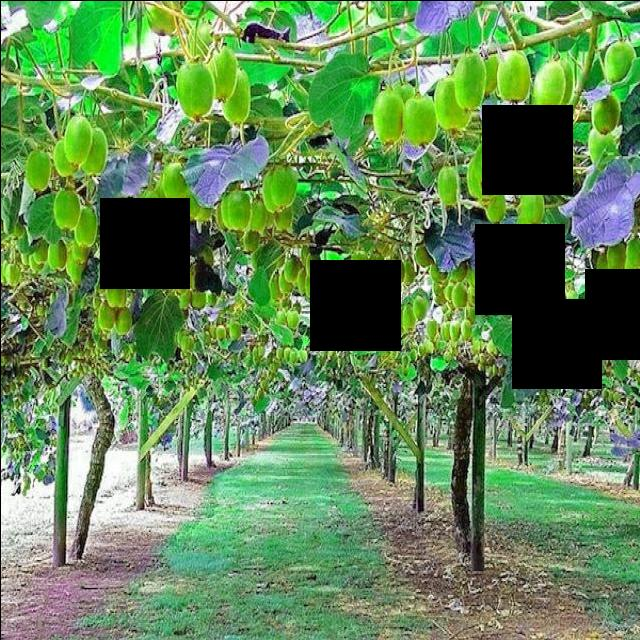kiwi: (437, 74, 473, 133), (456, 49, 488, 109), (208, 40, 238, 100), (224, 64, 252, 126), (500, 47, 530, 102), (406, 93, 438, 144), (537, 59, 567, 110), (475, 40, 502, 96), (376, 91, 405, 142), (606, 38, 637, 84), (468, 154, 498, 200), (546, 57, 574, 105), (588, 124, 618, 168), (80, 132, 110, 176), (56, 184, 84, 230), (593, 90, 622, 134), (272, 162, 298, 208), (475, 139, 502, 183), (157, 198, 183, 243), (391, 78, 416, 124), (27, 149, 53, 191), (523, 181, 546, 226), (137, 186, 160, 231), (138, 209, 161, 254), (119, 193, 141, 239), (55, 138, 80, 177), (164, 161, 187, 203), (518, 207, 542, 247), (264, 169, 285, 213), (77, 205, 99, 247), (104, 204, 127, 244), (64, 134, 93, 165), (485, 184, 507, 223), (181, 177, 200, 222), (231, 188, 251, 229), (440, 165, 461, 204), (65, 247, 86, 282), (608, 236, 629, 270), (50, 234, 68, 272), (195, 185, 212, 225), (223, 190, 240, 228), (108, 274, 127, 308), (352, 247, 370, 282), (98, 298, 117, 330), (250, 197, 267, 231), (74, 233, 92, 264), (385, 270, 402, 302), (370, 250, 386, 284), (530, 292, 549, 320), (116, 304, 133, 335), (610, 255, 627, 285), (473, 260, 491, 288), (278, 198, 294, 229), (175, 264, 191, 295), (497, 266, 513, 296), (307, 247, 322, 279), (279, 268, 296, 296), (392, 256, 408, 284), (306, 271, 320, 302), (431, 257, 449, 281), (575, 346, 591, 373), (602, 292, 619, 317), (320, 261, 334, 291), (596, 250, 609, 282), (594, 323, 611, 347), (515, 272, 527, 306), (34, 237, 49, 264), (627, 237, 640, 268), (627, 253, 640, 284), (452, 257, 468, 282), (285, 256, 301, 281), (455, 282, 469, 310), (403, 301, 416, 331), (477, 282, 493, 306), (298, 269, 312, 296), (524, 271, 539, 296), (548, 279, 563, 304), (245, 228, 260, 252), (415, 293, 428, 320), (586, 293, 600, 318), (403, 261, 417, 286), (192, 286, 206, 311), (566, 352, 579, 377), (8, 261, 22, 284), (417, 244, 431, 265), (271, 276, 283, 300), (585, 329, 599, 349), (450, 320, 462, 343), (287, 307, 300, 328), (324, 299, 336, 319), (462, 317, 472, 338), (278, 306, 288, 327), (428, 318, 438, 338), (232, 322, 242, 342), (444, 318, 452, 342), (609, 321, 619, 339), (218, 324, 228, 341), (183, 331, 191, 352), (284, 346, 294, 360), (277, 345, 287, 359), (410, 346, 420, 360), (301, 348, 309, 362), (291, 351, 299, 362)
